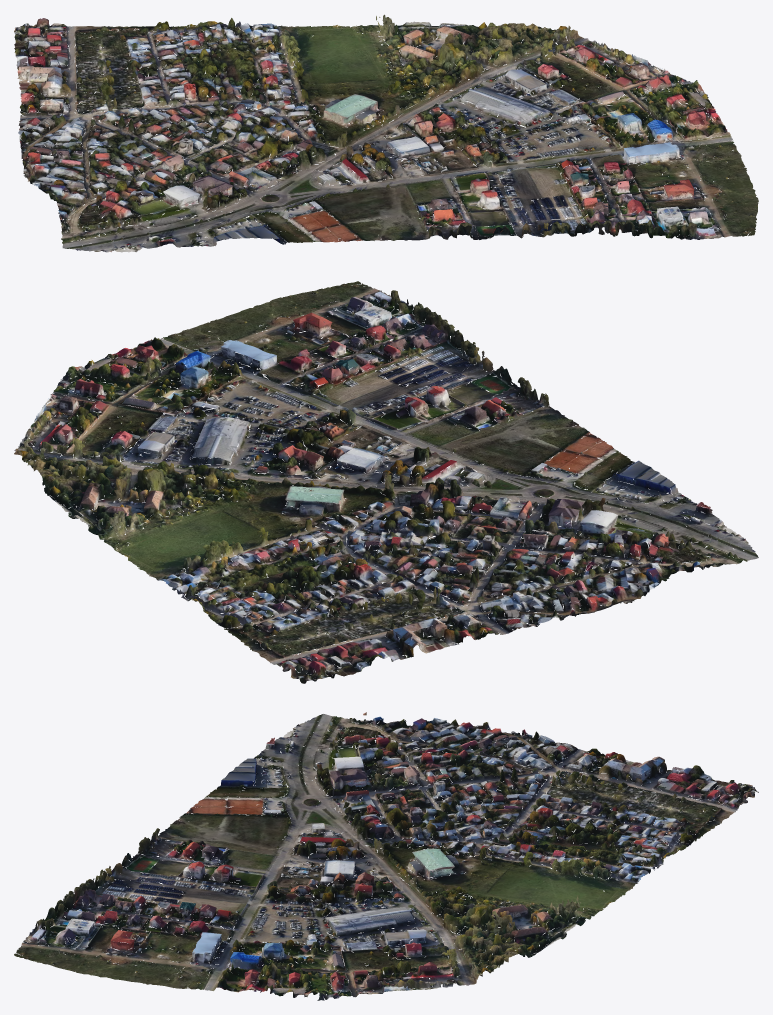
The model's file is topografia-demo.glb.
The picture shows the model from 3 angles, top to bottom: view 1: azimuth 30°, elevation 25°; view 2: azimuth 150°, elevation 25°; view 3: azimuth 270°, elevation 25°; orthographic projection. The views are drawn at different scales.
Visible parts, largest first — view 1: Object_3, Object_10, Object_17, Object_23; view 2: Object_3, Object_10, Object_17, Object_23; view 3: Object_3, Object_10, Object_17, Object_23.
Boxes of the visible parts, left/top/right/bottom form: Object_3: left=14, top=21, right=758, bottom=252; Object_10: left=14, top=21, right=730, bottom=248; Object_17: left=14, top=14, right=737, bottom=251; Object_23: left=15, top=16, right=753, bottom=252; Object_3: left=14, top=281, right=758, bottom=683; Object_10: left=19, top=297, right=719, bottom=678; Object_17: left=14, top=290, right=743, bottom=676; Object_23: left=17, top=283, right=746, bottom=682; Object_3: left=14, top=714, right=758, bottom=997; Object_10: left=28, top=712, right=754, bottom=999; Object_17: left=27, top=718, right=752, bottom=1000; Object_23: left=16, top=716, right=756, bottom=999.
Bounding box in the file's own units: 687 × 32.02 × 734.
4 materials, 4 textured.
